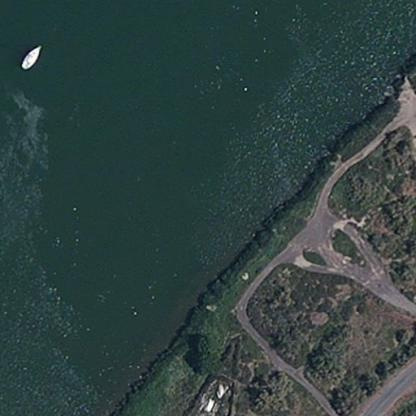ship: (15, 32, 51, 74)
